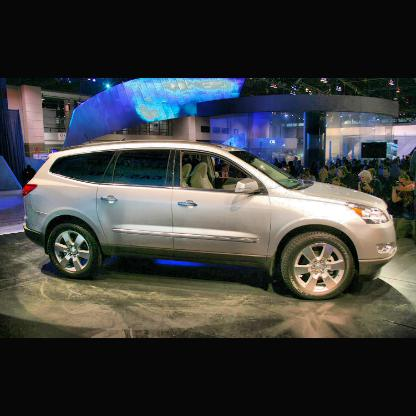Chevrolet Traverse SUV 2012: (21, 135, 401, 304)
